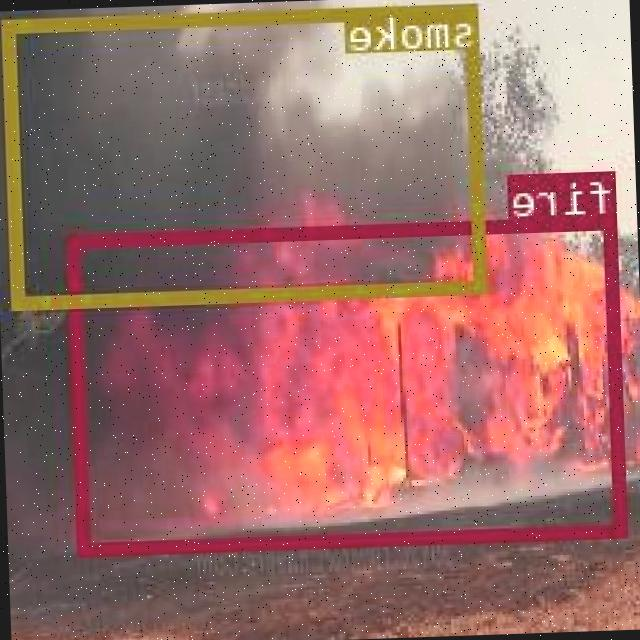fire: (70, 213, 630, 552)
smoke: (5, 1, 488, 306)
